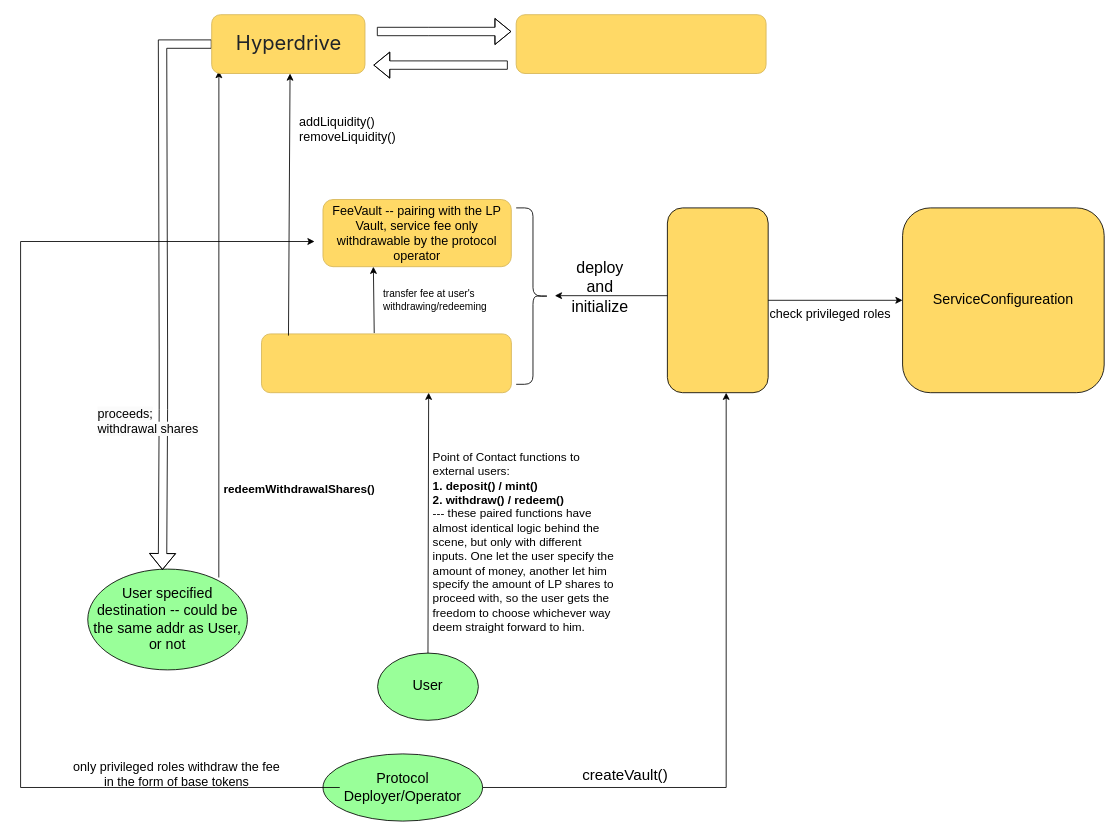
This 1119x836 diagram has some shape labels left out. The centre of each missing label's shape, as x and y in pixels:
External Yield Source, like AAVE, Lido....etc.: pixel 640 44
LP and Chill Vault: pixel 386 363
VaultFactory: pixel 717 300
